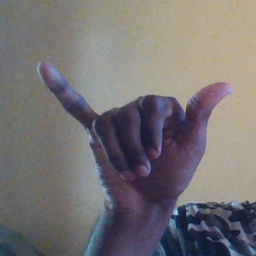J: (37, 55, 234, 215)
